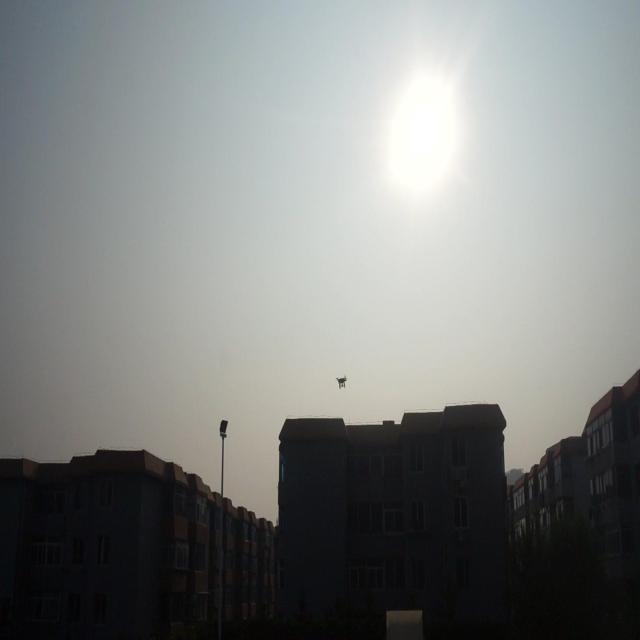drone: (333, 372, 351, 392)
